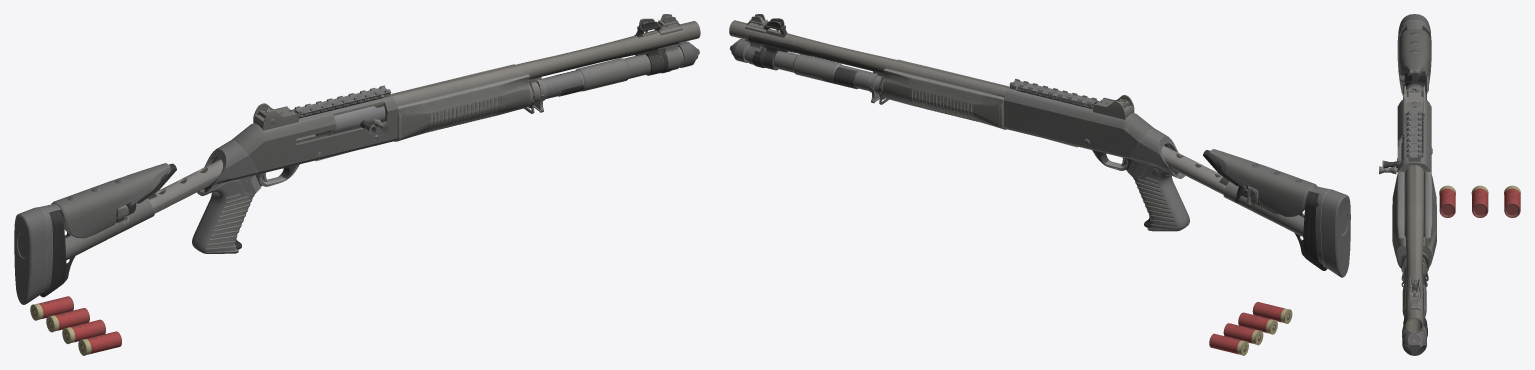
The model's file is weapon_xm1014.glb.
The picture shows the model from 3 angles, left to right: view 1: azimuth 30°, elevation 25°; view 2: azimuth 150°, elevation 25°; view 3: azimuth 270°, elevation 25°; orthographic projection. The views are drawn at different scales.
Parts seen in each view (by area): view 1: weapons/models/xm1014/weapon_shot_xm1014.vmdl_c.body_legacy, weapons/models/xm1014/weapon_shot_xm1014.vmdl_c.body_hd; view 2: weapons/models/xm1014/weapon_shot_xm1014.vmdl_c.body_legacy, weapons/models/xm1014/weapon_shot_xm1014.vmdl_c.body_hd; view 3: weapons/models/xm1014/weapon_shot_xm1014.vmdl_c.body_legacy, weapons/models/xm1014/weapon_shot_xm1014.vmdl_c.body_hd.
Boxes of the visible parts, box(x1,y1,x2,y2) form: weapons/models/xm1014/weapon_shot_xm1014.vmdl_c.body_legacy: box(14, 14, 700, 355); weapons/models/xm1014/weapon_shot_xm1014.vmdl_c.body_hd: box(37, 18, 679, 353); weapons/models/xm1014/weapon_shot_xm1014.vmdl_c.body_legacy: box(729, 14, 1350, 355); weapons/models/xm1014/weapon_shot_xm1014.vmdl_c.body_hd: box(747, 18, 1327, 352); weapons/models/xm1014/weapon_shot_xm1014.vmdl_c.body_legacy: box(1379, 14, 1520, 355); weapons/models/xm1014/weapon_shot_xm1014.vmdl_c.body_hd: box(1382, 26, 1520, 336).
Bounding box in the file's own units: 37.18 × 10.69 × 6.68.
Materials: 2 (2 with a texture image).
